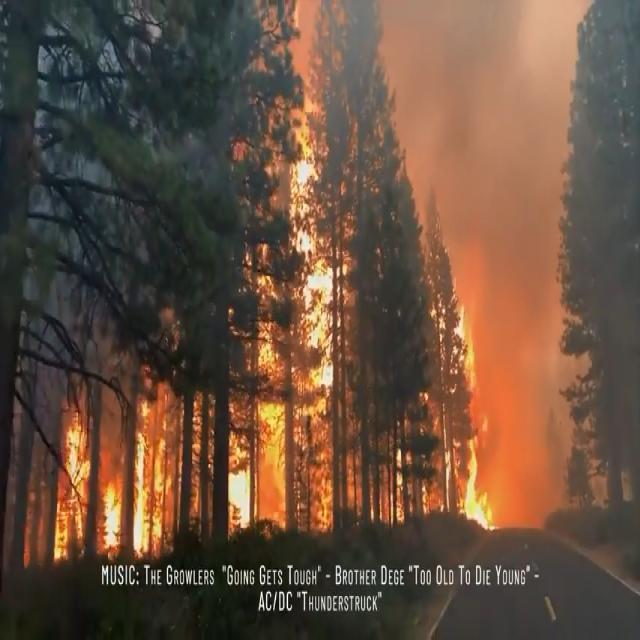Fire: (55, 0, 493, 528)
